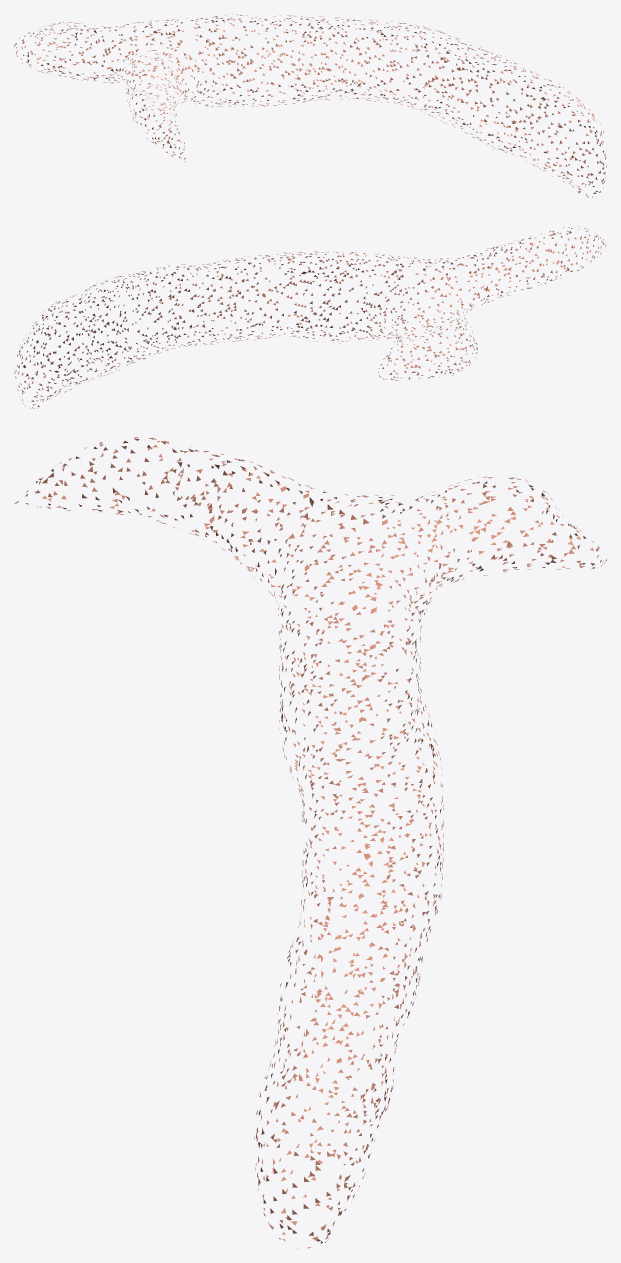
File: morph_003.glb
3 views of the same model, one above another, from view 1: azimuth 30°, elevation 25°; view 2: azimuth 150°, elevation 25°; view 3: azimuth 270°, elevation 25° (orthographic). The views are drawn at different scales.
Bounding box in the file's own units: 121 × 58.32 × 73.68.
